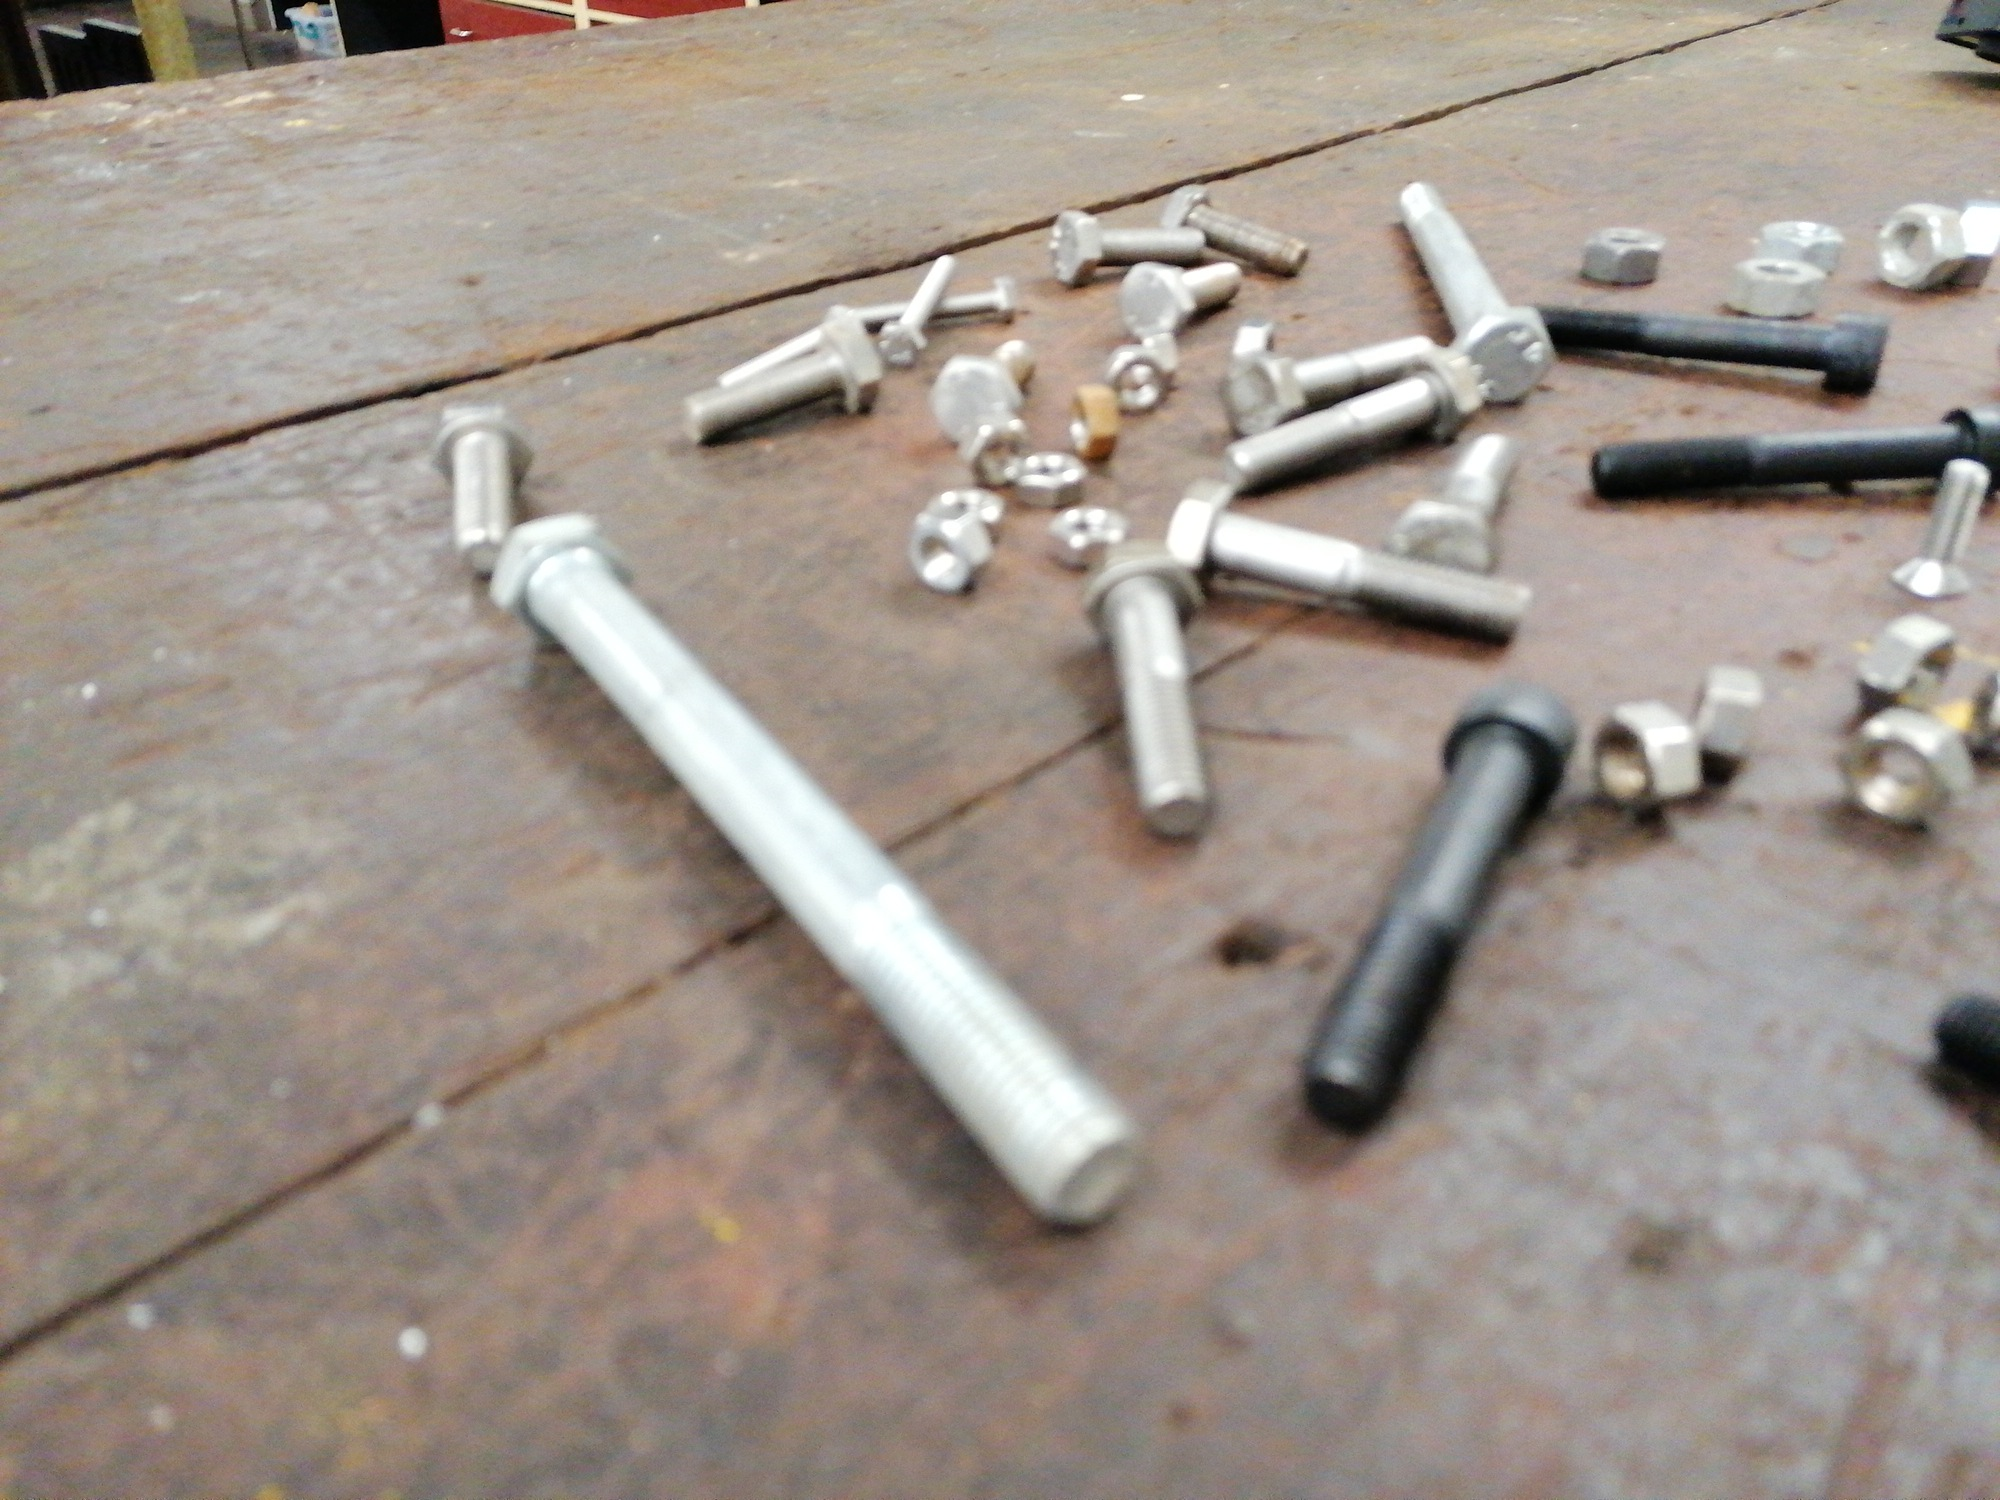bolt: (483, 509, 1145, 1234), (1302, 684, 1576, 1134), (1162, 476, 1532, 648), (1074, 537, 1214, 838), (1591, 403, 2000, 503), (1395, 180, 1557, 405), (1540, 303, 1891, 395), (679, 318, 882, 444), (1220, 332, 1435, 435), (1384, 432, 1518, 574), (435, 399, 532, 570), (1890, 455, 1992, 599), (1161, 183, 1310, 277), (1047, 208, 1206, 287), (928, 339, 1035, 447), (715, 306, 847, 391), (1117, 258, 1243, 340), (876, 252, 957, 367), (854, 274, 1019, 326)
nut: (1839, 703, 1975, 830), (1584, 698, 1702, 811), (1855, 610, 1957, 709), (1687, 663, 1762, 786), (902, 511, 995, 597), (1876, 200, 1965, 288), (1720, 252, 1828, 318), (956, 413, 1033, 488), (1575, 224, 1668, 285), (1046, 503, 1131, 567), (917, 487, 1008, 545), (1750, 217, 1846, 269), (1099, 343, 1167, 416), (1950, 195, 2000, 288), (1013, 449, 1090, 509), (1066, 377, 1120, 460), (1230, 317, 1274, 358)
